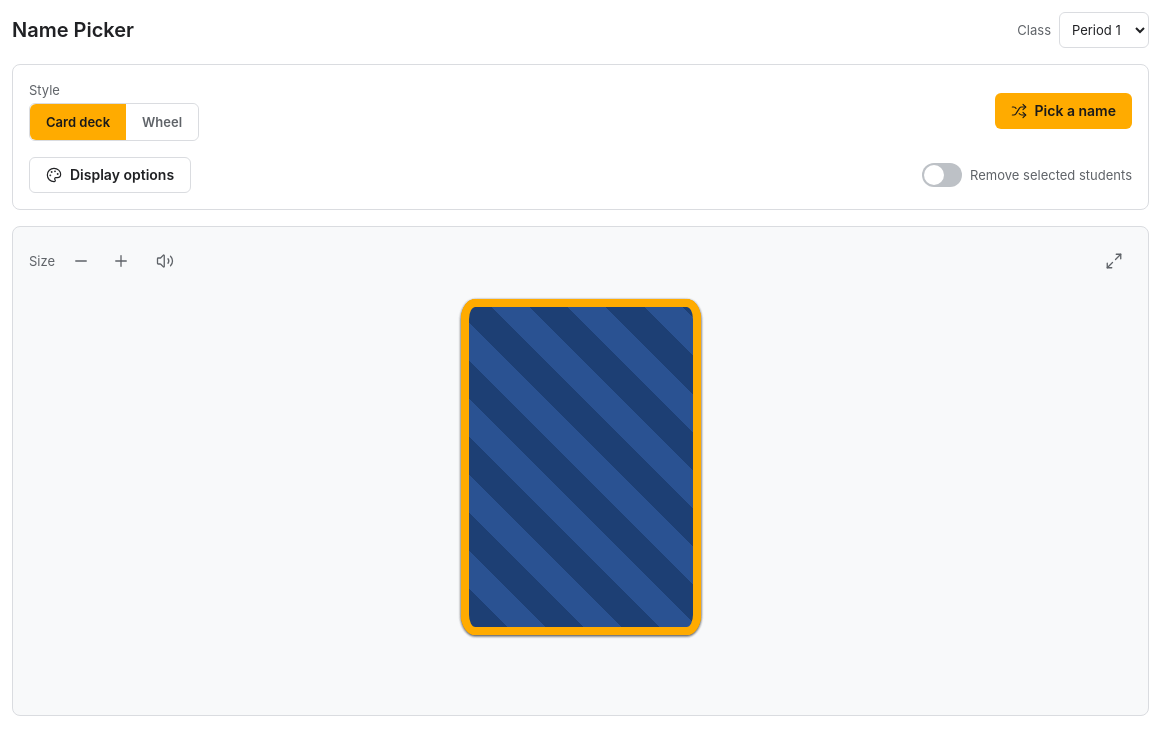
Test: NamePickerPage › scopes the pool to the selected class
Check: the button "Pick a name" is shown, box left=995, top=93, right=1132, bottom=129
Select "Period 2" in the dropdown named "Filter by class" at [1104, 30], box left=1059, top=12, right=1149, bottom=48
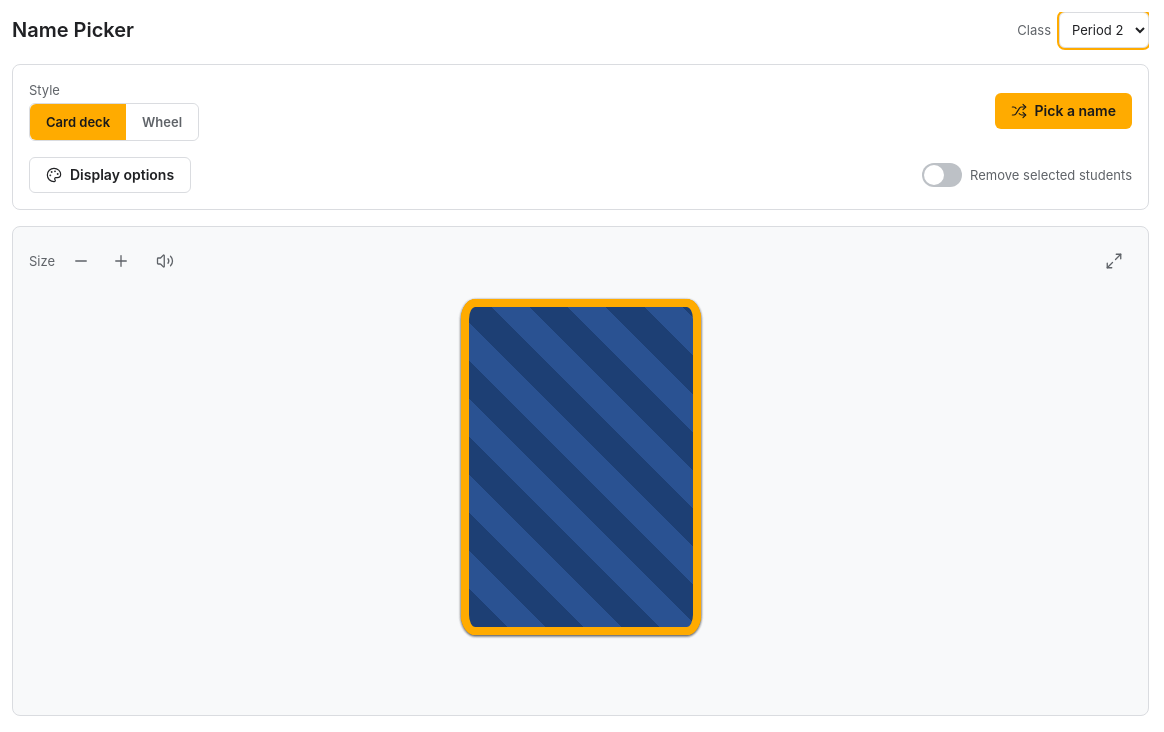
Click the button "Pick a name" at [1063, 111], box left=995, top=93, right=1132, bottom=129
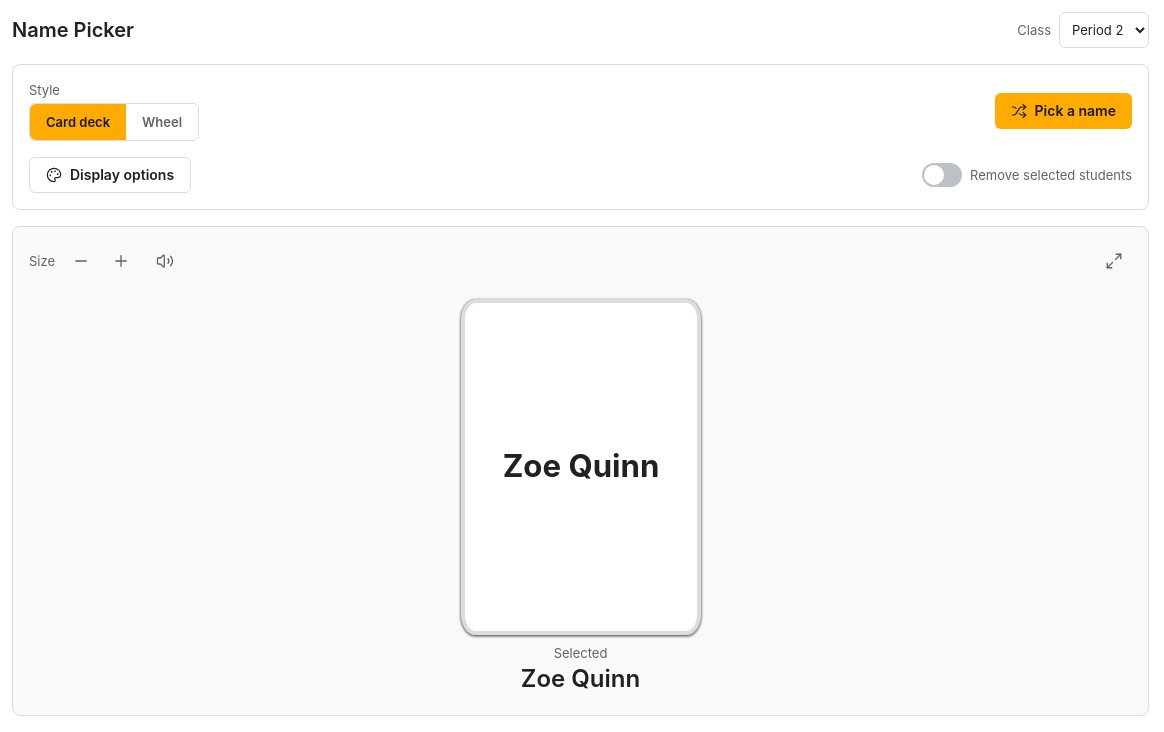
Check: the 1st text "Zoe Quinn" is shown, box left=460, top=299, right=700, bottom=635
